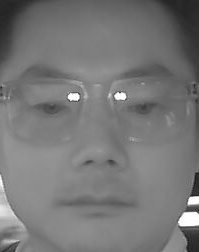eye: (30, 98, 67, 118), (126, 99, 159, 117)
glass: (109, 73, 192, 146), (6, 76, 86, 145)
mouth: (55, 189, 131, 223)
